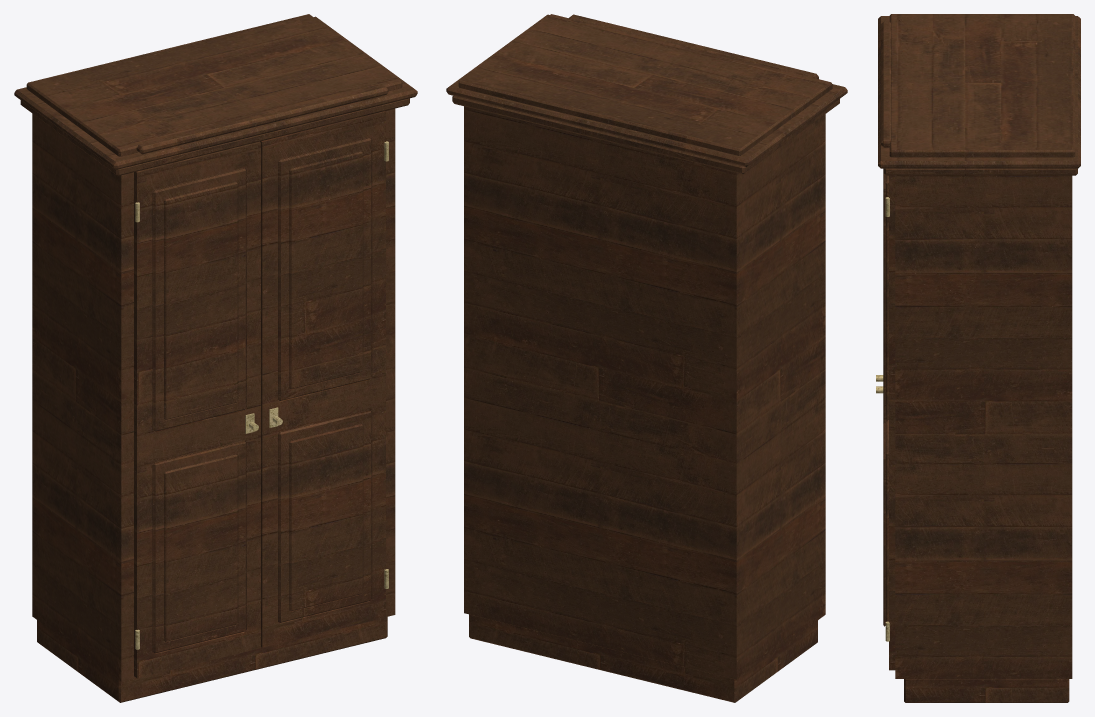
Rendered from wooden-wardrobe.glb.
3 views of the same model, side by side, from view 1: azimuth 30°, elevation 25°; view 2: azimuth 150°, elevation 25°; view 3: azimuth 270°, elevation 25° (orthographic).
Visible parts, largest first — view 1: Body, DoorL, DoorR; view 2: Body; view 3: Body, DoorR.
Boxes of the visible parts, x1=… form: Body: x1=14, y1=14, x2=417, y2=702; DoorL: x1=134, y1=141, x2=260, y2=678; DoorR: x1=260, y1=111, x2=388, y2=647; Body: x1=446, y1=14, x2=847, y2=702; Body: x1=878, y1=14, x2=1080, y2=702; DoorR: x1=876, y1=169, x2=895, y2=670.
Size of the model in its own units: 1.22 by 2.16 by 0.7171.
Materials: 2 (2 with a texture image).
